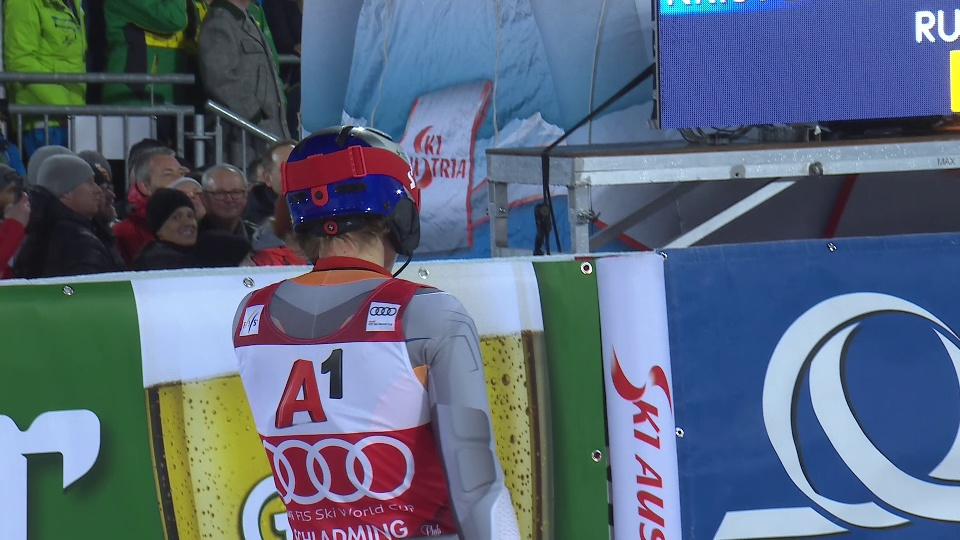a1: (264, 351, 356, 429)
audi: (266, 435, 420, 507), (368, 303, 399, 321)
uniqa: (678, 261, 960, 537)
